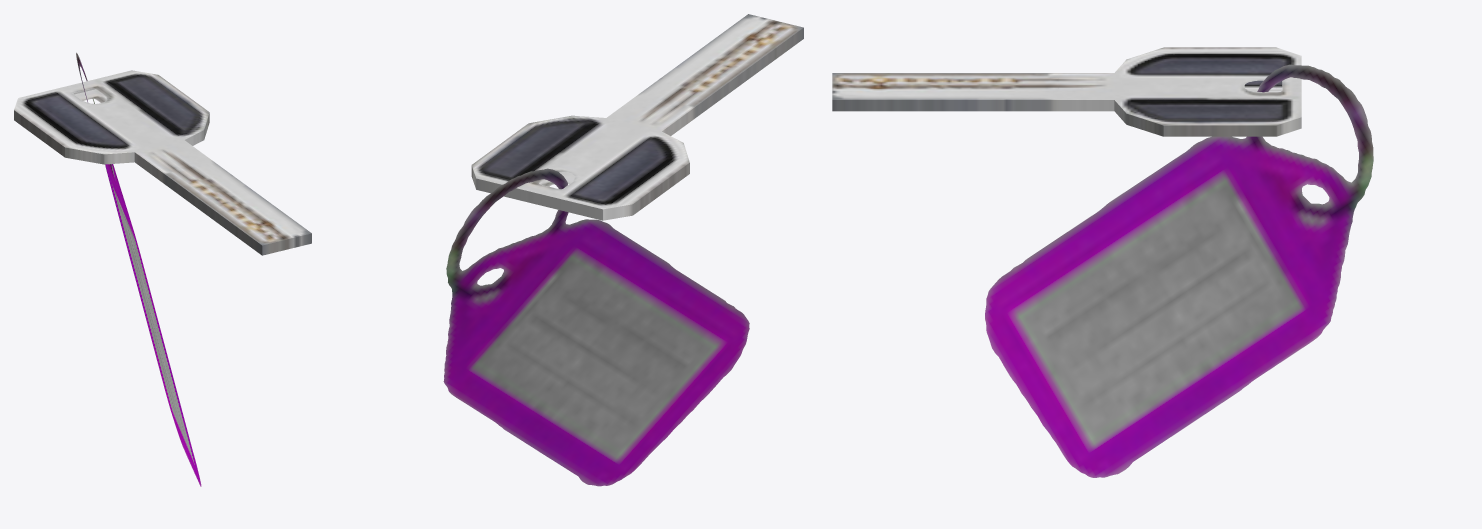
Rendered from key_lab.fbx.
The picture shows the model from 3 angles, left to right: view 1: azimuth 30°, elevation 25°; view 2: azimuth 150°, elevation 25°; view 3: azimuth 270°, elevation 25°; orthographic projection. The views are drawn at different scales.
Parts seen in each view (by area): view 1: key_lab; view 2: key_lab; view 3: key_lab.
Boxes of the visible parts, bbox=[...] form: key_lab: bbox=[14, 52, 311, 486]; key_lab: bbox=[443, 14, 803, 486]; key_lab: bbox=[832, 47, 1373, 477].
Bounding box in the file's own units: 8.54 × 20.03 × 24.08.
Materials: 1 (1 with a texture image).
